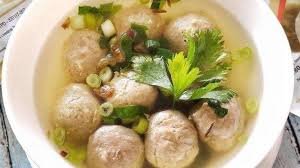bakso: (45, 25, 250, 167)
